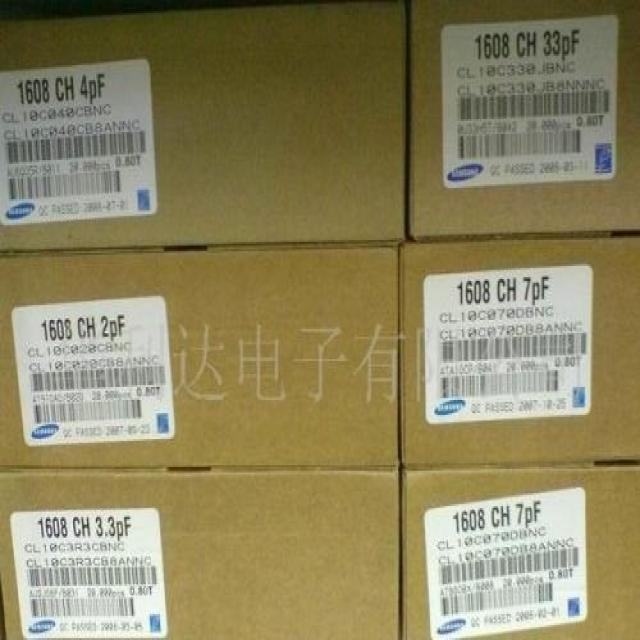box: (0, 5, 408, 251), (0, 243, 402, 473), (0, 469, 402, 638), (400, 231, 639, 469), (407, 0, 639, 242), (403, 463, 639, 638)
